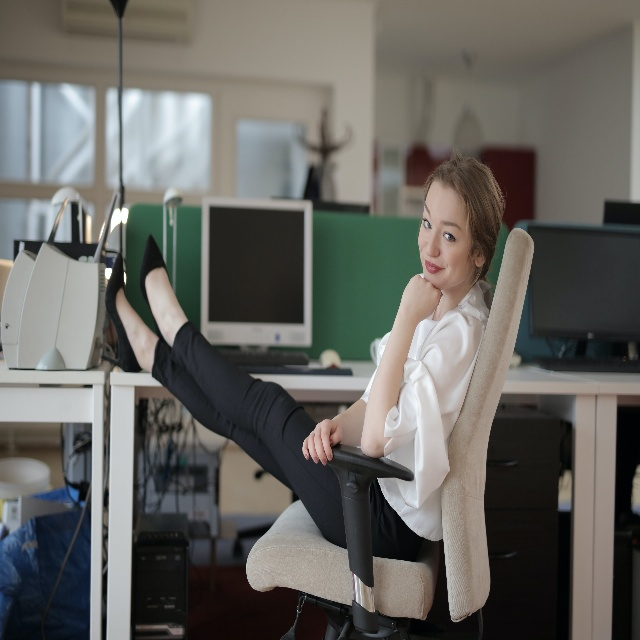Sin_guantes: (400, 274, 443, 324), (302, 419, 343, 467)
